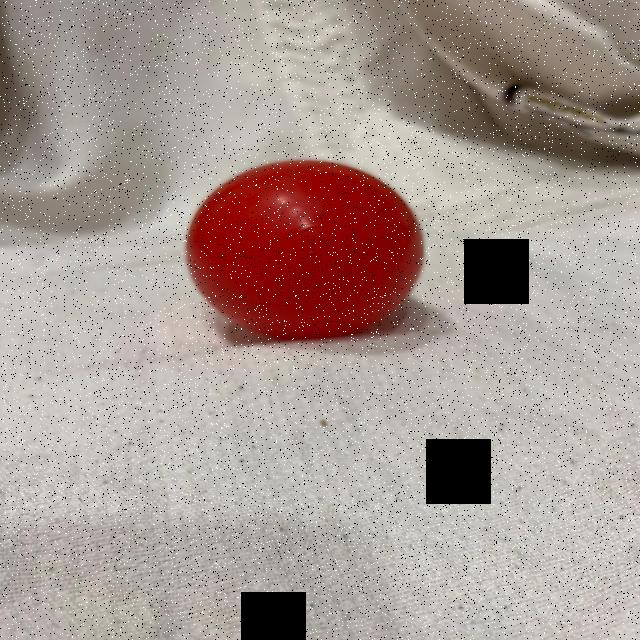ball: (184, 157, 428, 342)
